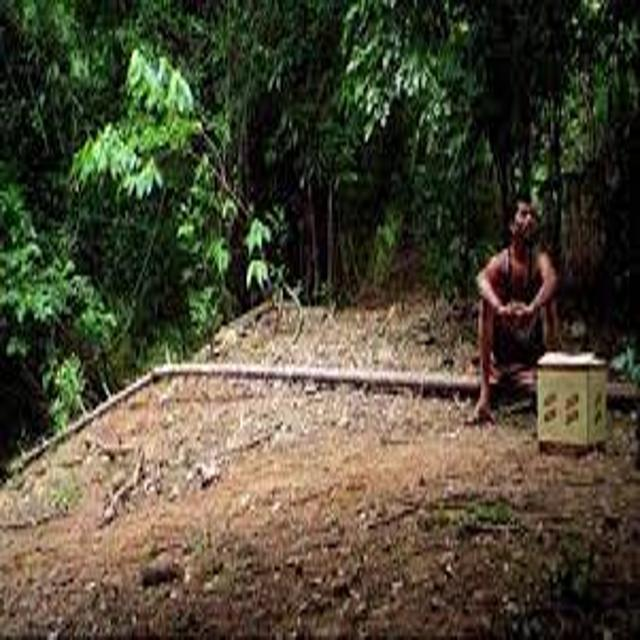backpack: (514, 336, 630, 474)
poacher: (442, 178, 573, 447)
